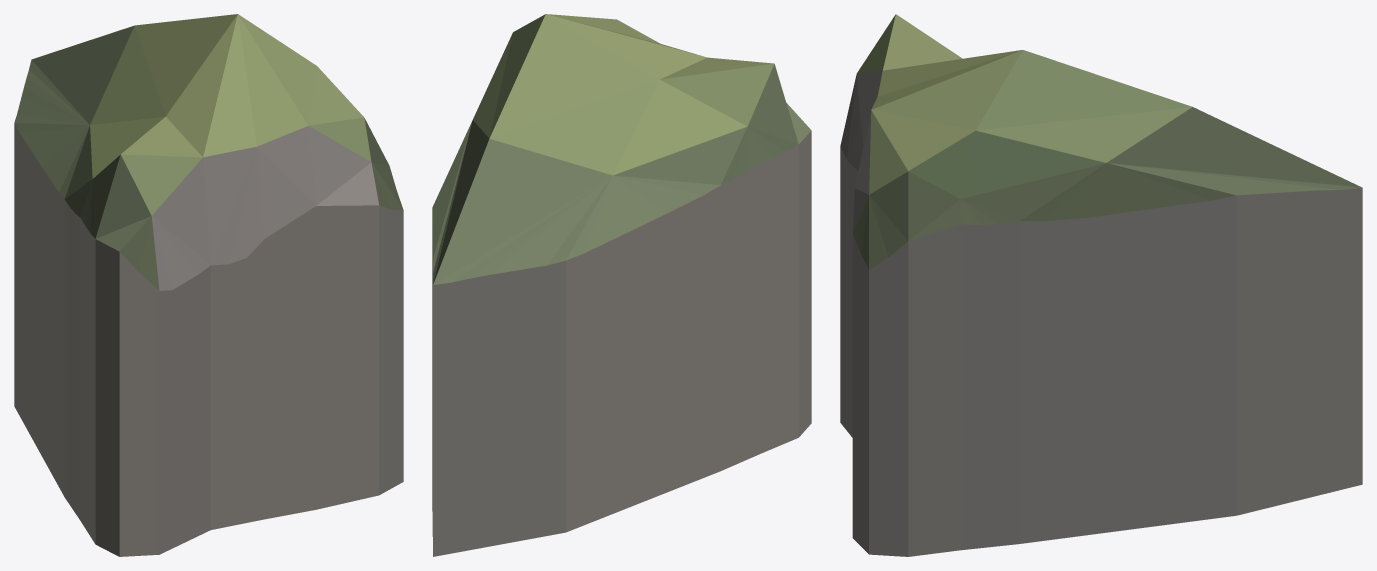
Rendered from cliff_western_slab.glb.
The picture shows the model from 3 angles, left to right: view 1: azimuth 30°, elevation 25°; view 2: azimuth 150°, elevation 25°; view 3: azimuth 270°, elevation 25°; orthographic projection. The views are drawn at different scales.
Visible parts, largest first — view 1: cliff_western_slab; view 2: cliff_western_slab; view 3: cliff_western_slab.
Part boxes in pixels (<box>): cliff_western_slab: <box>14,14,403,556</box>; cliff_western_slab: <box>432,14,811,556</box>; cliff_western_slab: <box>840,14,1362,556</box>.
Bounding box in the file's own units: 55.6 × 77.32 × 79.97.
